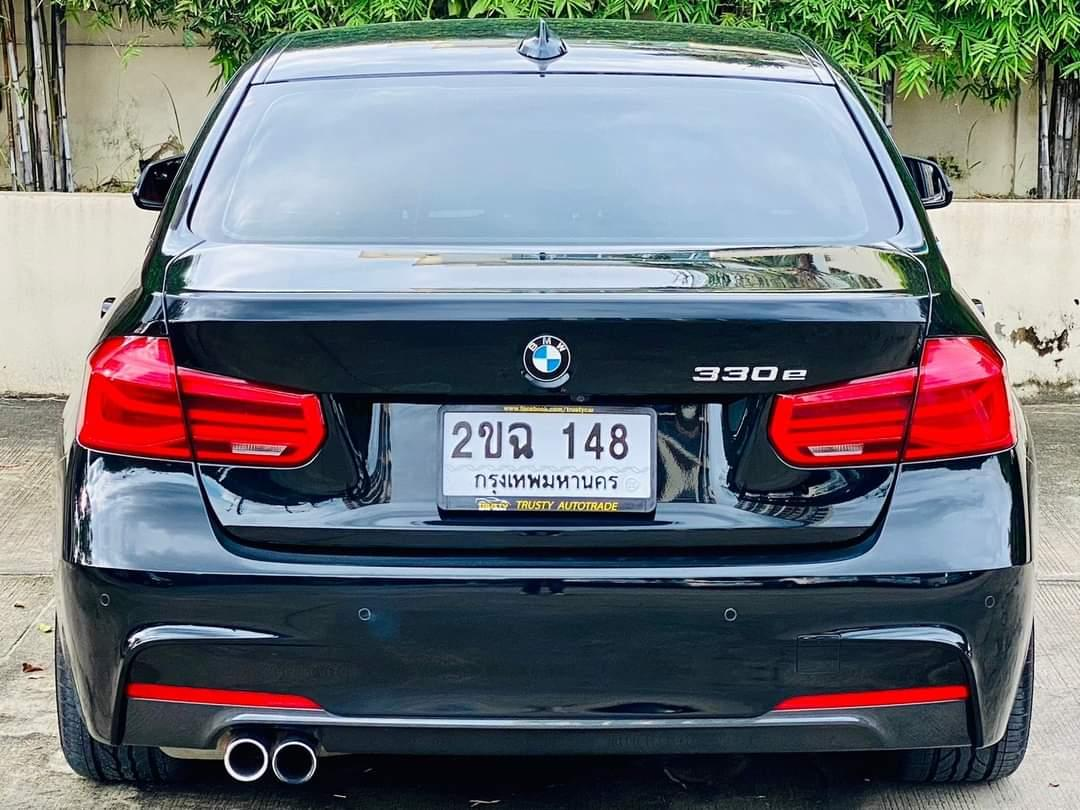license-plate: (434, 397, 659, 519)
